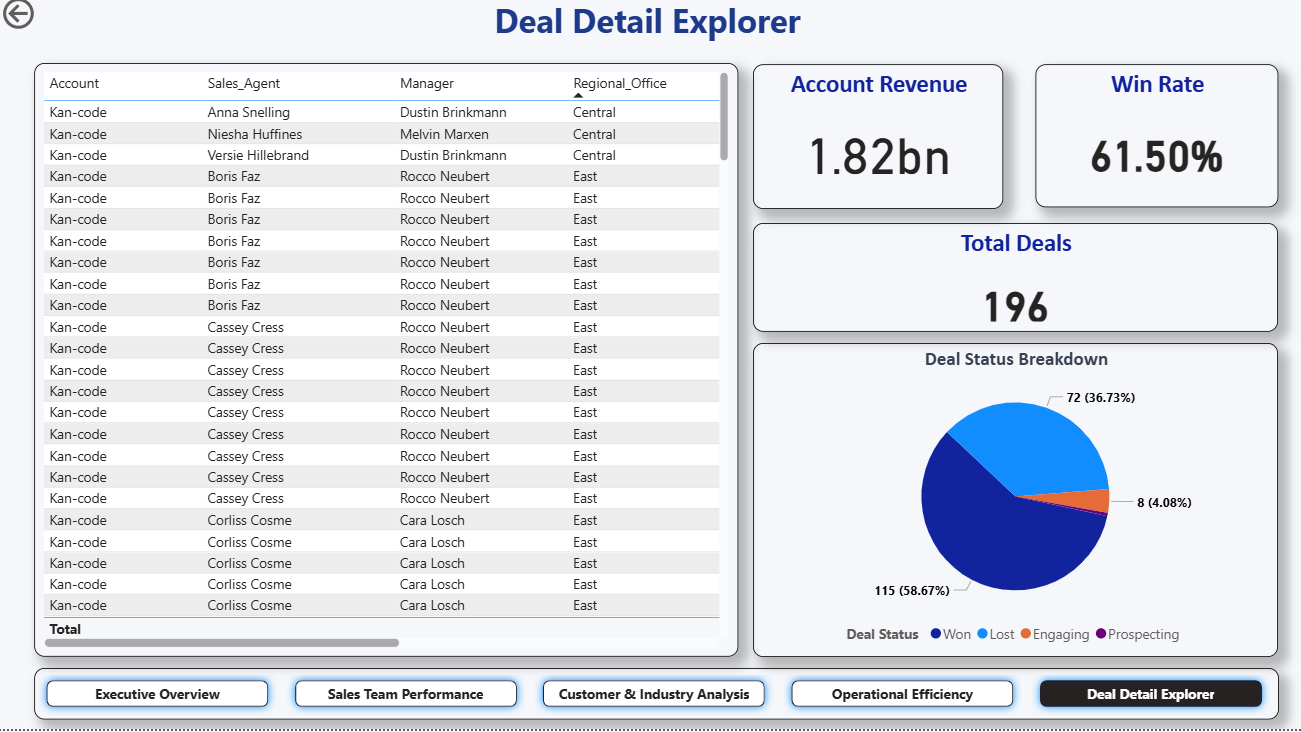

Layout of this report page (visuals, bound fields, positions):
{"tool":"powerbi","page":{"name":"Deal Detail Explorer","canvas":[1280,720],"ordinal":4},"visuals":[{"type":"actionButton","box":[0,0,100,40],"z":0},{"type":"tableEx","fields":{"Values":["accounts.Account","sales_teams.Sales_Agent","sales_teams.Manager","sales_teams.Regional_Office","products.Series","accounts.Sector","sales_pipeline.Deal Status ","sales_pipeline.Deal QTY","Sum(sales_pipeline.Total Amount)","Sum(sales_pipeline.Days )"]},"box":[35,70,688.8,580],"z":1000},{"type":"cardVisual","title":"Account Revenue","fields":{"Data":["sales_pipeline.Selected Account Revenue"]},"box":[738.8,70,245,141.2],"z":2000},{"type":"cardVisual","title":"Total Deals","fields":{"Data":["sales_pipeline.Selected Account Deals"]},"box":[738.9,225.1,513.8,106.3],"z":3000},{"type":"cardVisual","title":"Win Rate","fields":{"Data":["sales_pipeline.Selected Account Win Rate"]},"box":[1015,70,237.5,140],"z":4000},{"type":"pieChart","title":"Deal Status Breakdown","fields":{"Y":["CountNonNull(sales_pipeline.ID)"],"Category":["sales_pipeline.Deal Status "]},"box":[738.8,342.5,513.8,307.5],"z":5000},{"type":"textbox","box":[0,0,1270.6,52.5],"z":6000},{"type":"pageNavigator","box":[35,660,1217.5,50],"z":7000}]}

Visuals, with their boxes in screenshot pixels (x1, y1, x2, y2), scaled from the page's 1280x720 canvas onto the 1301x732 screenshot:
actionButton: x1=0, y1=0, x2=102, y2=41
tableEx - accounts.Account x sales_teams.Sales_Agent: x1=36, y1=71, x2=736, y2=661
"Account Revenue" cardVisual: x1=751, y1=71, x2=1000, y2=215
"Total Deals" cardVisual: x1=751, y1=229, x2=1273, y2=337
"Win Rate" cardVisual: x1=1032, y1=71, x2=1273, y2=214
"Deal Status Breakdown" pieChart: x1=751, y1=348, x2=1273, y2=661
textbox: x1=0, y1=0, x2=1291, y2=53
pageNavigator: x1=36, y1=671, x2=1273, y2=722
